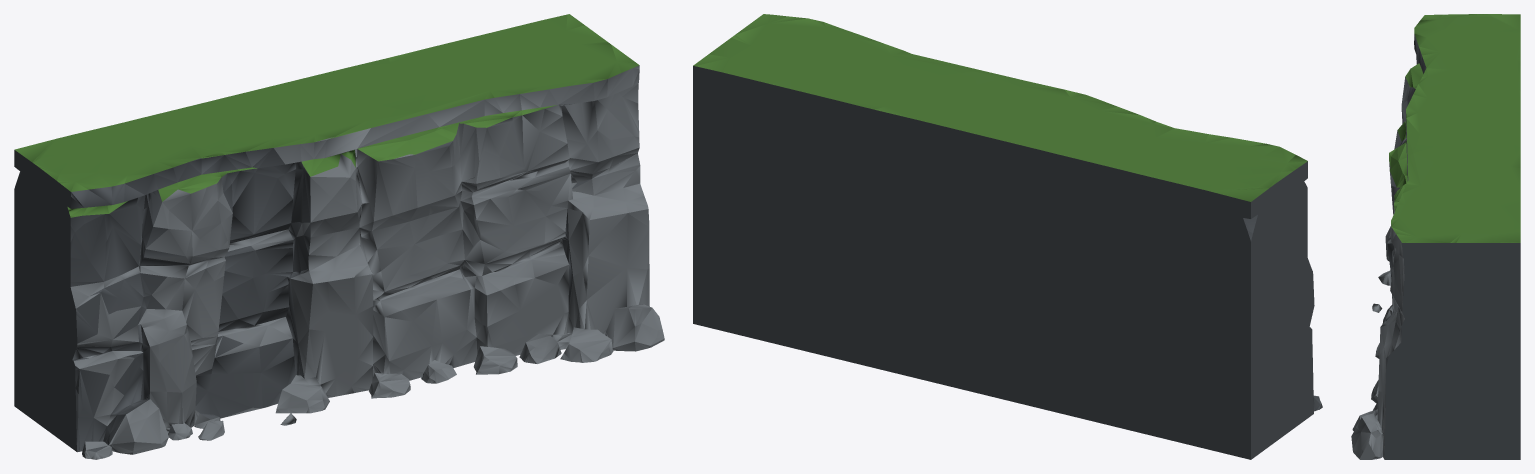
Rendered from mdvl_nature_cliff_03.glb.
3 views of the same model, side by side, from view 1: azimuth 30°, elevation 25°; view 2: azimuth 150°, elevation 25°; view 3: azimuth 270°, elevation 25° (orthographic). The views are drawn at different scales.
Visible parts, largest first — view 1: mdvl_nature_cliff_03; view 2: mdvl_nature_cliff_03; view 3: mdvl_nature_cliff_03.
Boxes of the visible parts, bbox=[...] form: mdvl_nature_cliff_03: bbox=[14, 14, 664, 459]; mdvl_nature_cliff_03: bbox=[693, 14, 1322, 459]; mdvl_nature_cliff_03: bbox=[1351, 14, 1520, 459].
Size of the model in its own units: 4 by 1.77 by 1.25.
1 material, 1 textured.
